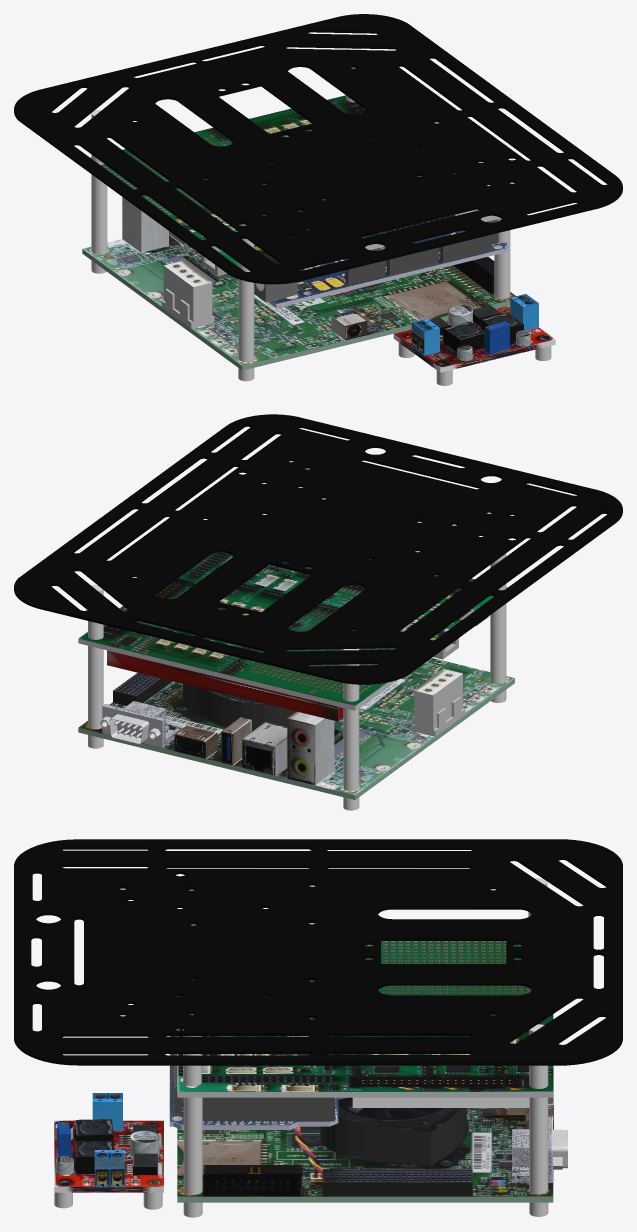
The model's file is jetduino_assembly_short.dae.
3 renders of one model, top to bottom at view 1: azimuth 30°, elevation 25°; view 2: azimuth 150°, elevation 25°; view 3: azimuth 270°, elevation 25°, orthographic. The views are drawn at different scales.
Parts seen in each view (by area): view 1: SketchUp_002, Cube, Cube_001, Group1, Cube_006, Cube_003, audio, Cylinder_001, Cylinder_002, Cylinder_004, Cube_004, Cube_010 (+9 smaller); view 2: SketchUp_002, Cube_001, Cube, Cube_002, audio, Cube_006, Cylinder, nework, Cylinder_002, Cylinder_003, Cylinder_001, header (+4 smaller); view 3: SketchUp_002, Cube_001, Cube, Cylinder, Group1, header, jtag, Cube_003, Cube_002, Cylinder_004, Cylinder_003, group_0_039 (+11 smaller).
Part boxes in pixels (x1,y1,x2,y2): SketchUp_002: (14, 14, 622, 284); Cube: (82, 234, 515, 370); Cube_001: (90, 95, 500, 281); Group1: (234, 219, 507, 308); Cube_006: (161, 261, 214, 328); Cube_003: (393, 305, 555, 372); audio: (122, 197, 168, 252); Cylinder_001: (238, 279, 254, 361); Cylinder_002: (91, 174, 107, 254); Cylinder_004: (494, 218, 510, 299); Cube_004: (443, 321, 484, 351); Cube_010: (411, 319, 439, 355); SketchUp_002: (14, 414, 622, 684); Cube_001: (78, 535, 507, 710); Cube: (78, 658, 514, 799); Cube_002: (107, 650, 343, 721); audio: (287, 711, 334, 785); Cube_006: (412, 669, 464, 736); Cylinder: (183, 684, 296, 731); nework: (242, 722, 287, 775); Cylinder_002: (343, 708, 359, 791); Cylinder_003: (88, 646, 103, 729); Cylinder_001: (490, 603, 506, 683); header: (113, 673, 172, 705); SketchUp_002: (14, 839, 622, 1065); Cube_001: (177, 941, 553, 1097); Cube: (177, 1108, 553, 1202); Cylinder: (320, 1097, 466, 1165); Group1: (169, 1036, 338, 1129); header: (322, 1169, 472, 1196); jtag: (203, 1165, 302, 1196); Cube_003: (54, 1120, 163, 1192); Cube_002: (352, 1097, 529, 1107); Cylinder_004: (183, 1097, 202, 1194); Cylinder_003: (529, 1097, 548, 1194); group_0_039: (512, 1116, 551, 1182).
Size of the model in its own units: 1.69 by 1.94 by 0.6617.
89 materials, 39 textured.
